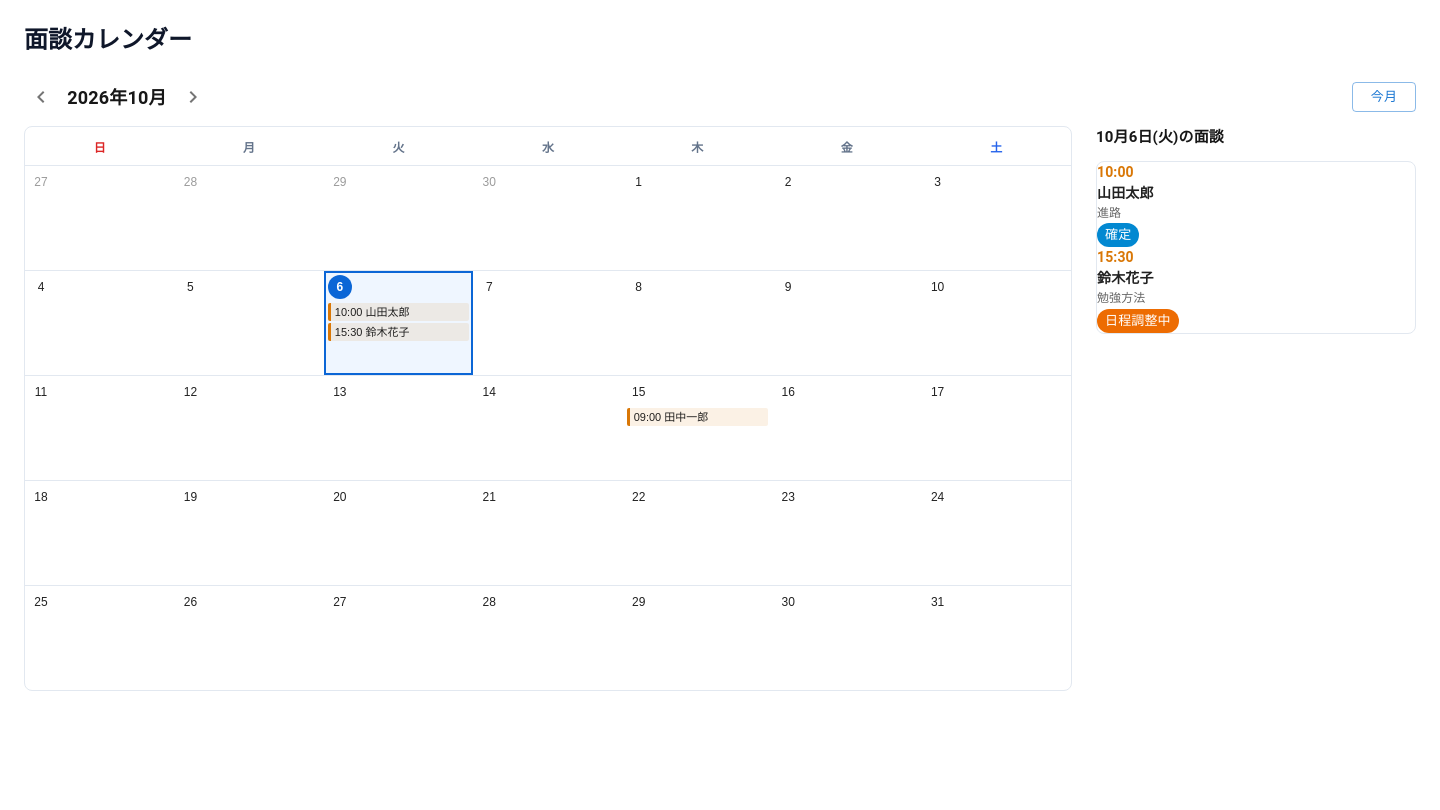
Test: InterviewCalendarPresenter › 相談カテゴリが未設定の面談はカテゴリを表示しない
The width and height of the screenshot is (1440, 810).
Click the button with aria-label "10月15日 面談1件": point(697, 428) [623,376,772,480]
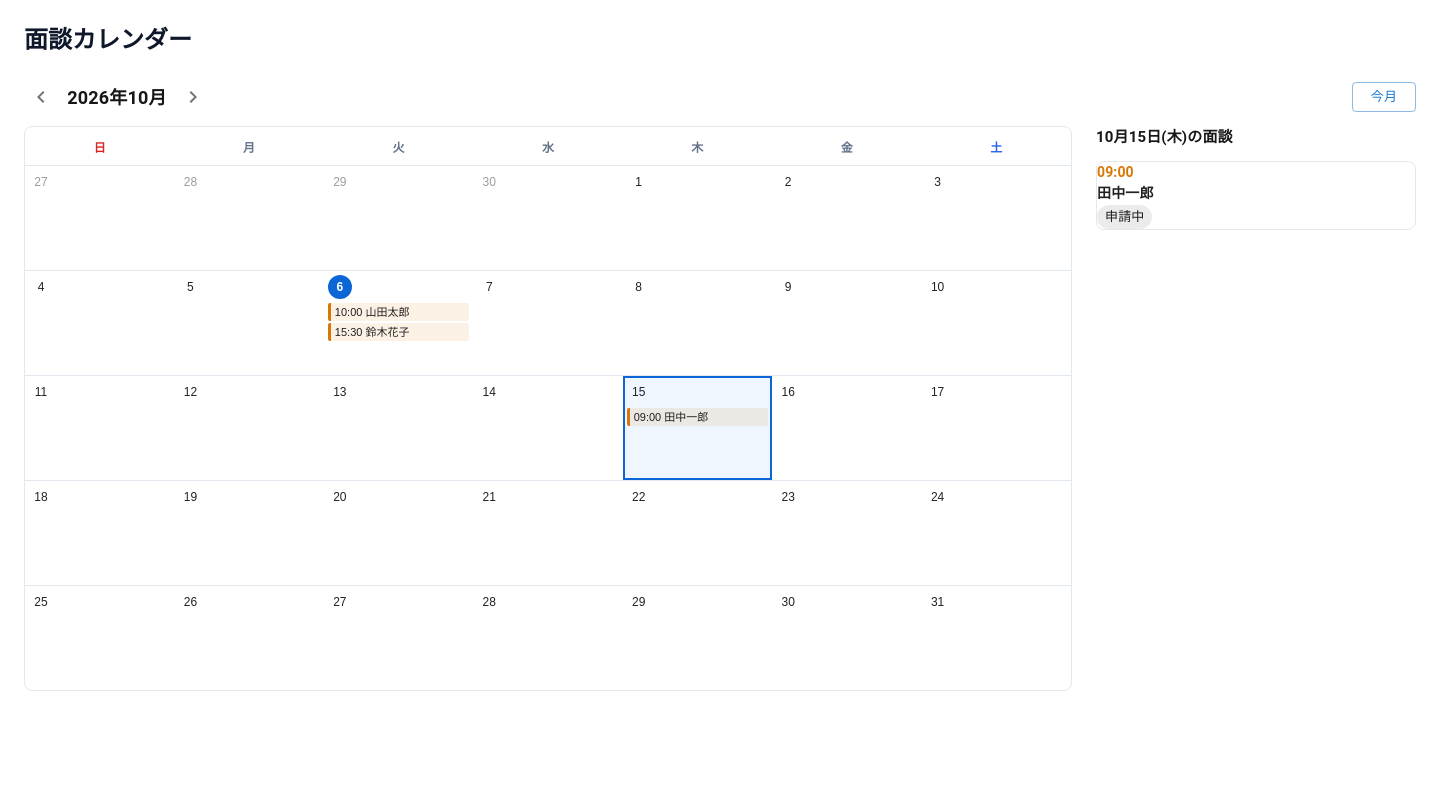
Expected: the text "田中一郎" is shown, [1097,184,1154,200]
Expected: the text "申請中" is shown, [1105,209,1144,224]
